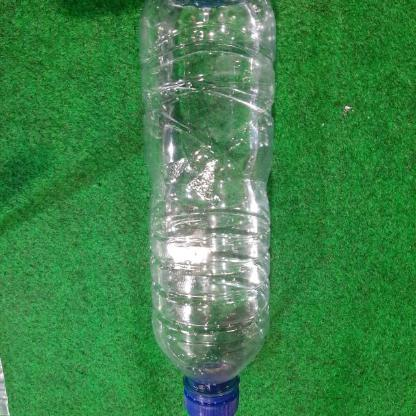Plastic Bottle: (142, 0, 280, 416)
